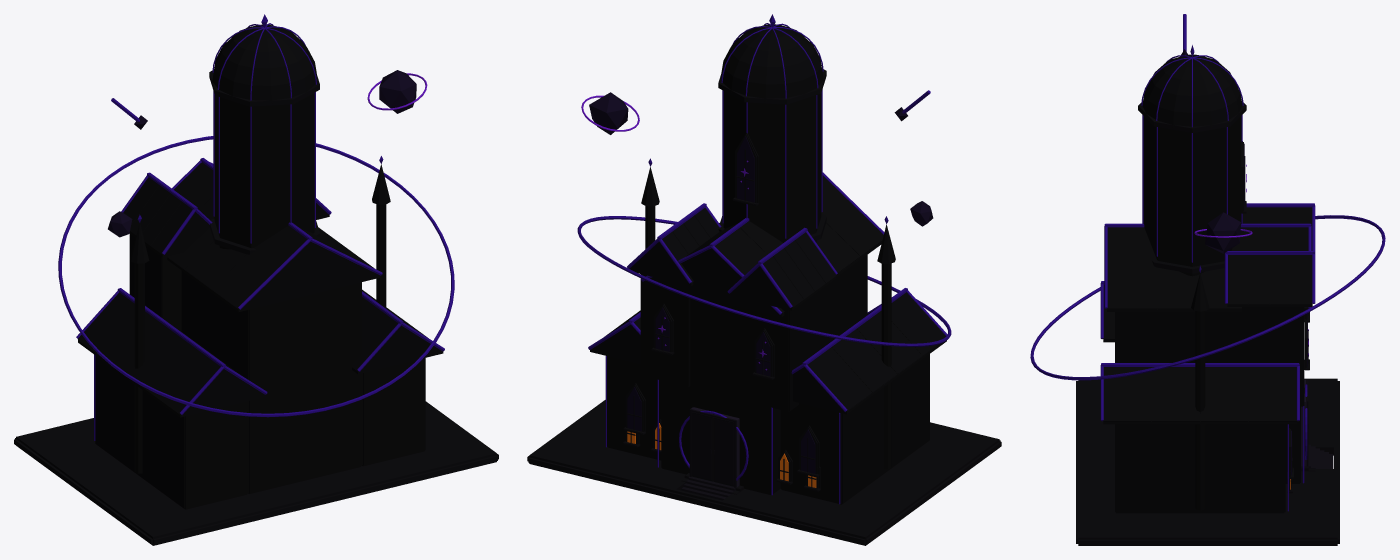
File: the-void-visual.obj
The picture shows the model from 3 angles, left to right: view 1: azimuth 30°, elevation 25°; view 2: azimuth 150°, elevation 25°; view 3: azimuth 270°, elevation 25°; orthographic projection. The views are drawn at different scales.
Visible parts, largest first — view 1: Manor, CentralTower, Foundation_01, Bay_roof-12.5, Wing_roof12.5, Central_roof, Bay_roof12.5, WingSpires, MainOrbitRing_01, Wing_roof-12.5, HouseFX_Planet_1; view 2: CentralTower, Foundation_01, Manor, Bay_roof-12.5, Wing_roof12.5, Central_roof, Bay_roof12.5, Wing_roof-12.5, WingSpires, MainOrbitRing_01, HouseFX_Planet_1, HouseDoorLeaf_L_Panel (+2 smaller); view 3: Manor, CentralTower, Foundation_01, Wing_roof-12.5, Central_roof, Bay_roof-12.5, WingSpires, MainOrbitRing_01, Bay_roof12.5, HouseFX_Planet_1, Wing_roof12.5.
Part boxes in pixels (bbox=[...]): Manor: bbox=[181, 271, 425, 493]; CentralTower: bbox=[209, 14, 319, 254]; Foundation_01: bbox=[14, 401, 498, 545]; Bay_roof-12.5: bbox=[95, 198, 331, 509]; Wing_roof12.5: bbox=[76, 233, 267, 417]; Central_roof: bbox=[167, 158, 382, 311]; Bay_roof12.5: bbox=[121, 172, 212, 257]; WingSpires: bbox=[130, 156, 390, 473]; MainOrbitRing_01: bbox=[58, 136, 454, 417]; Wing_roof-12.5: bbox=[351, 289, 444, 374]; HouseFX_Planet_1: bbox=[367, 70, 427, 113]; CentralTower: bbox=[718, 14, 826, 244]; Foundation_01: bbox=[527, 400, 1001, 545]; Manor: bbox=[607, 255, 867, 494]; Bay_roof-12.5: bbox=[623, 203, 929, 504]; Wing_roof12.5: bbox=[741, 288, 947, 414]; Central_roof: bbox=[641, 172, 884, 317]; Bay_roof12.5: bbox=[727, 227, 837, 477]; Wing_roof-12.5: bbox=[588, 274, 690, 387]; WingSpires: bbox=[641, 158, 895, 469]; MainOrbitRing_01: bbox=[577, 216, 951, 346]; HouseFX_Planet_1: bbox=[581, 92, 639, 134]; HouseDoorLeaf_L_Panel: bbox=[692, 413, 711, 479]; Manor: bbox=[1115, 312, 1300, 513]; CentralTower: bbox=[1138, 45, 1246, 276]; Foundation_01: bbox=[1076, 378, 1339, 545]; Wing_roof-12.5: bbox=[1100, 307, 1304, 424]; Central_roof: bbox=[1104, 223, 1311, 311]; Bay_roof-12.5: bbox=[1224, 251, 1315, 478]; WingSpires: bbox=[1191, 265, 1209, 510]; MainOrbitRing_01: bbox=[1030, 215, 1385, 380]; Bay_roof12.5: bbox=[1242, 203, 1315, 322]; HouseFX_Planet_1: bbox=[1194, 212, 1252, 253]; Wing_roof12.5: bbox=[1100, 281, 1114, 342].
Size of the model in its own units: 57.95 by 70.82 by 53.99.
